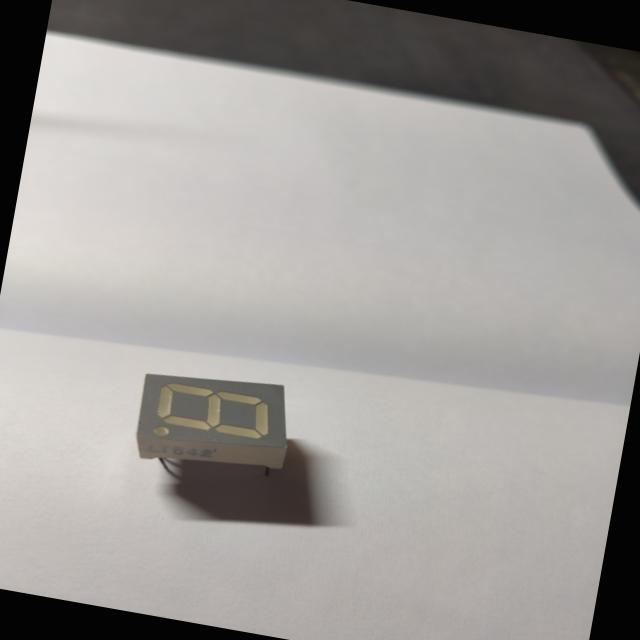sevensegment: (118, 352, 318, 506)
